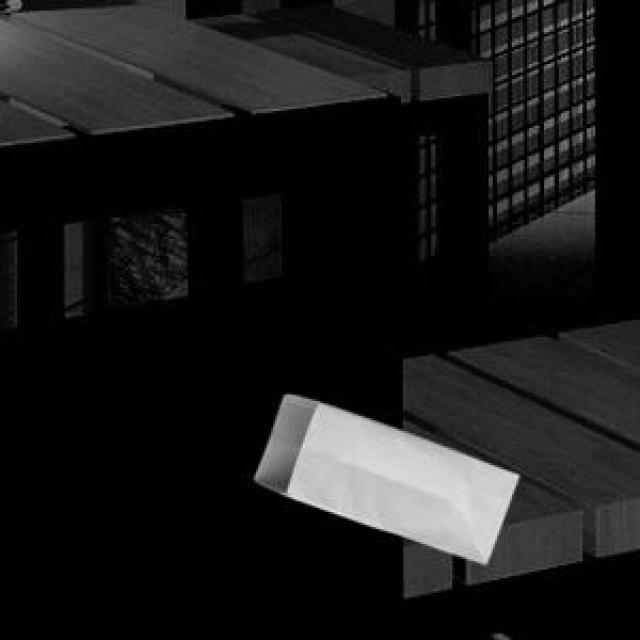paper: (250, 390, 514, 559)
